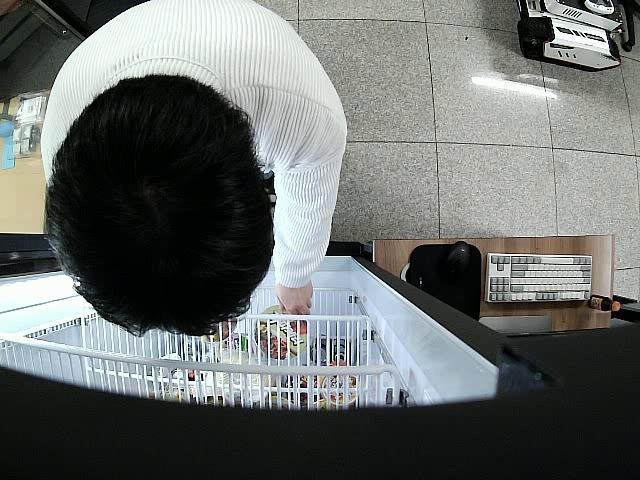03_chapagetti_L: (255, 306, 310, 359)
